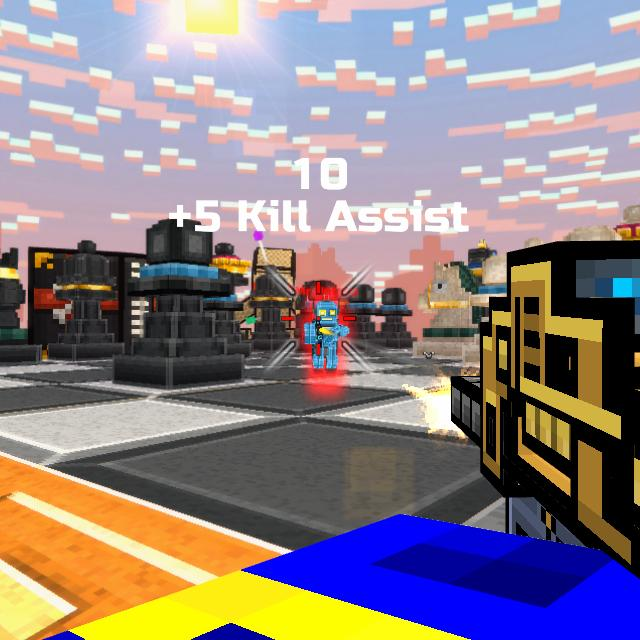Enemy: (304, 301, 350, 373)
